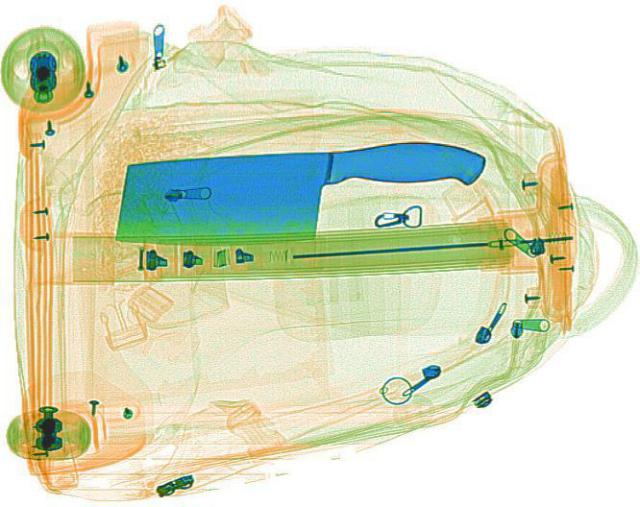Knife: (109, 138, 489, 250)
